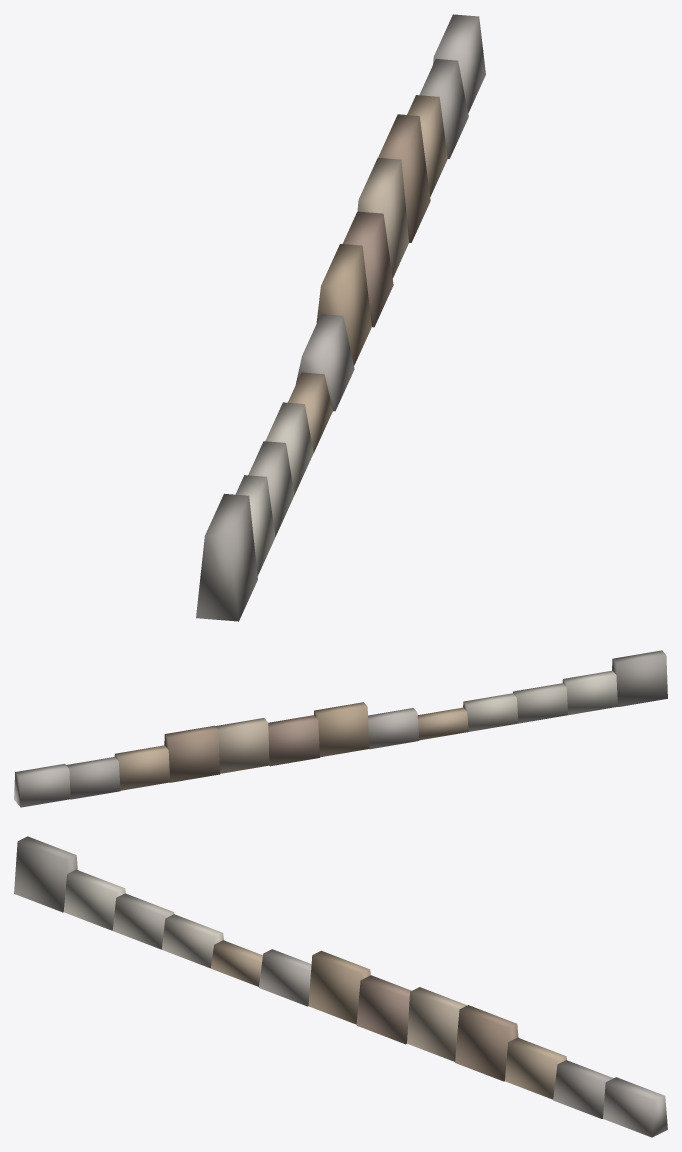
File: farm_5_7_collision.glb
3 renders of one model, top to bottom at view 1: azimuth 30°, elevation 25°; view 2: azimuth 150°, elevation 25°; view 3: azimuth 270°, elevation 25°, orthographic. The views are drawn at different scales.
Parts seen in each view (by area): view 1: geometry_0; view 2: geometry_0; view 3: geometry_0.
Part boxes in pixels (x1,y1,x2,y2): geometry_0: (196, 14, 485, 621); geometry_0: (14, 650, 667, 807); geometry_0: (14, 836, 667, 1137).
Size of the model in its own units: 13.94 by 1.79 by 16.21.
